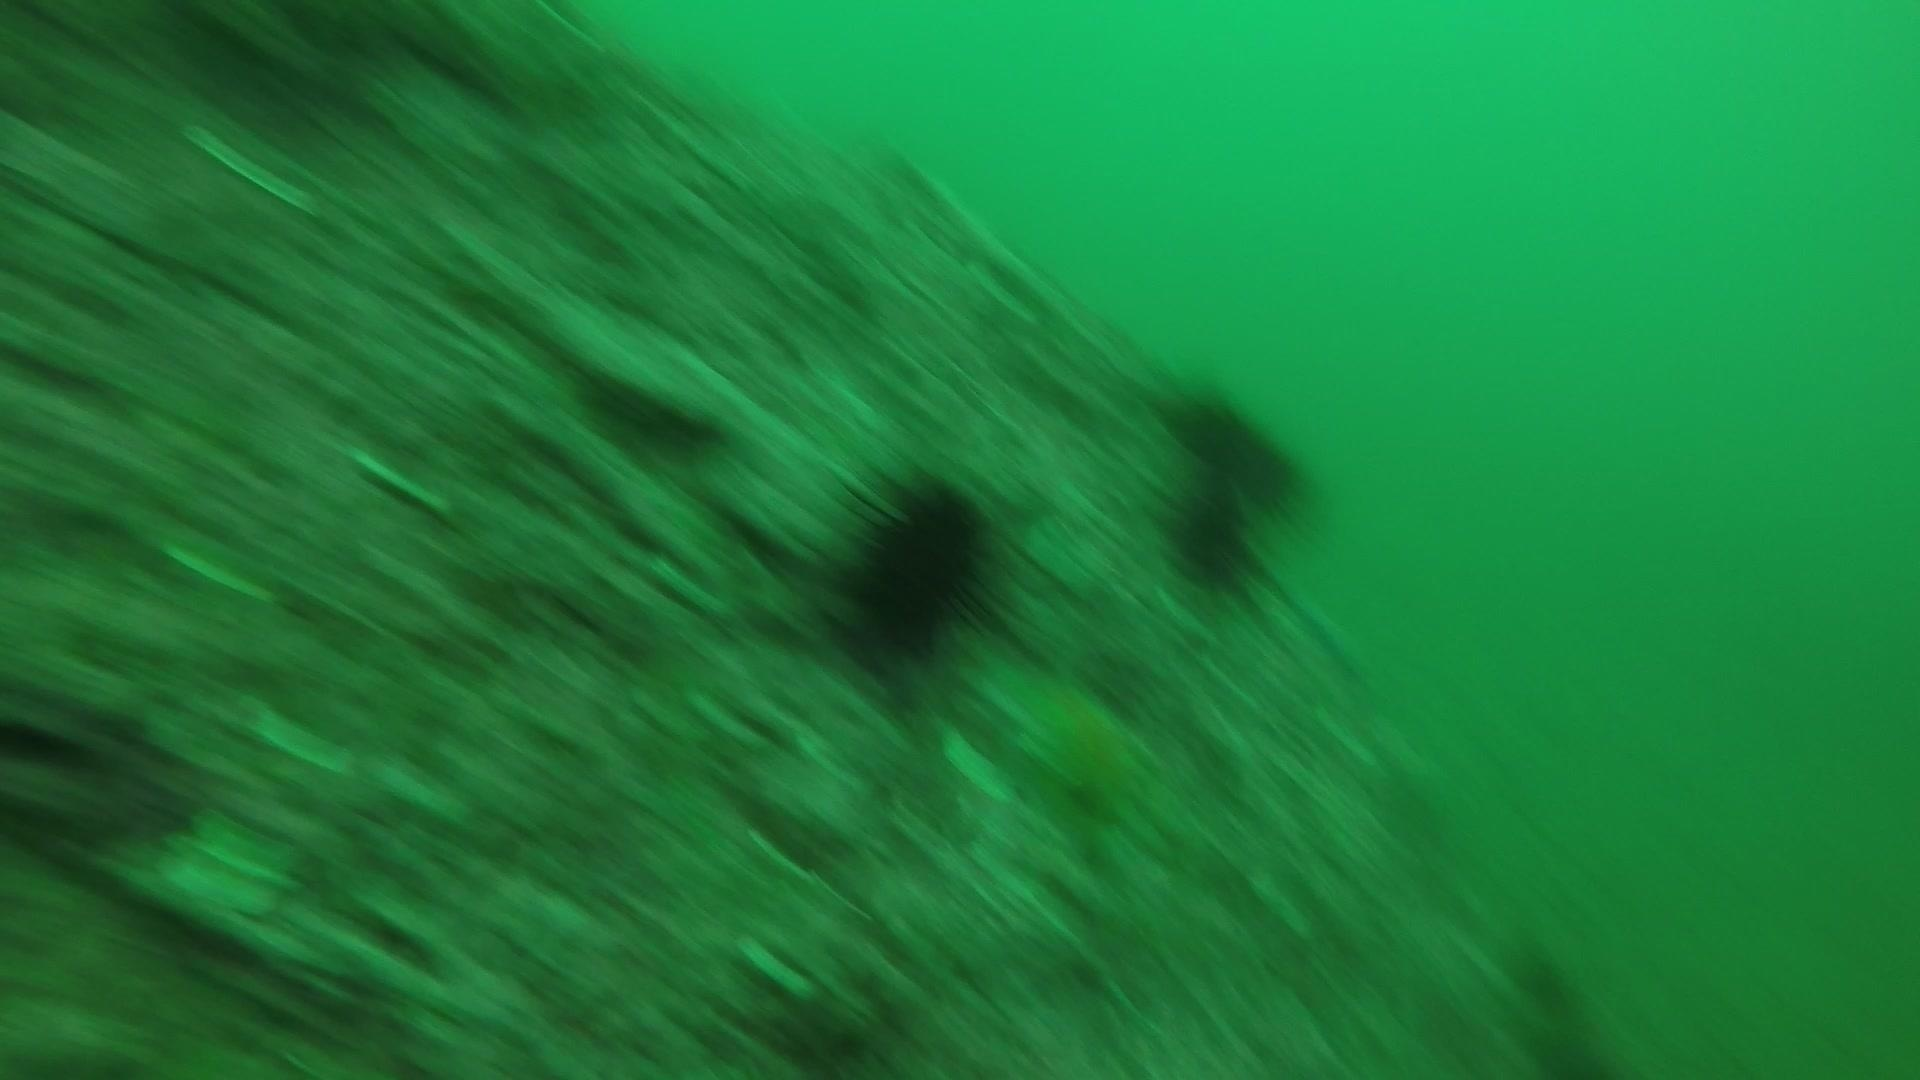echinus: (829, 465, 1005, 658), (1178, 385, 1309, 527), (1164, 483, 1266, 593)
starfish: (985, 658, 1160, 816)
